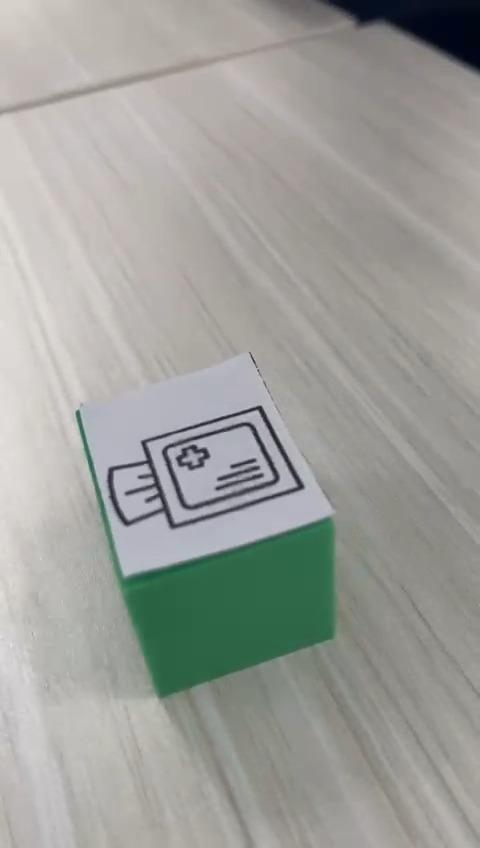Gauze: (74, 350, 338, 698)
